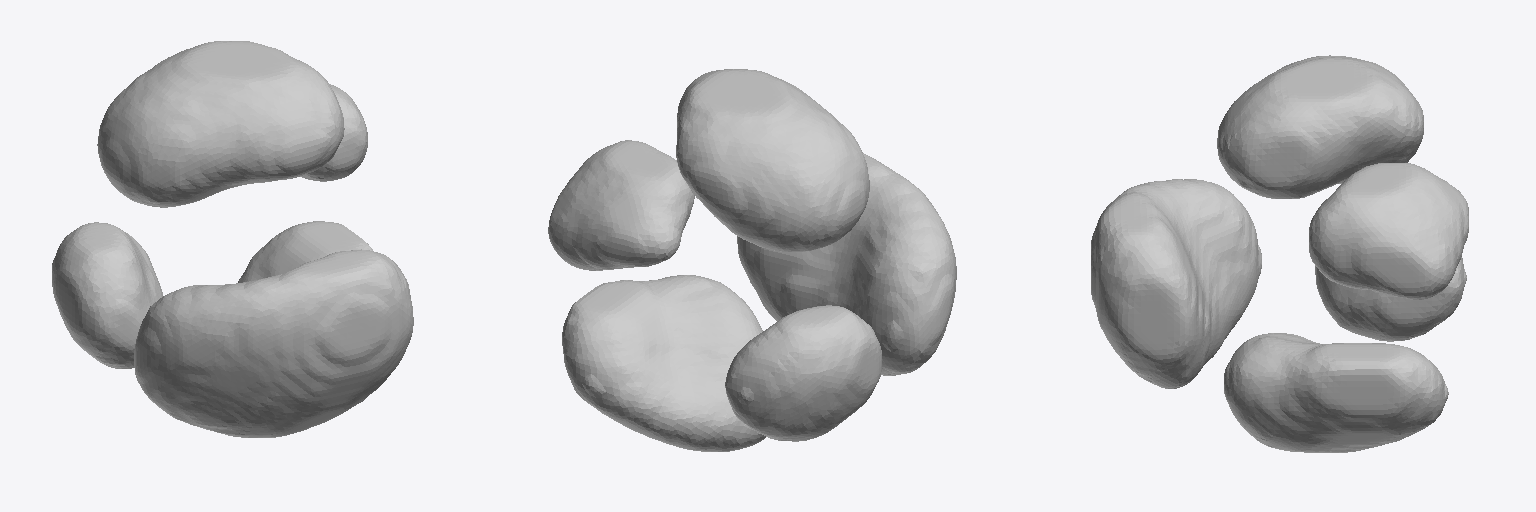
The model's file is iso-crop-mosaic_0.obj.
3 views of the same model, side by side, from view 1: azimuth 30°, elevation 25°; view 2: azimuth 150°, elevation 25°; view 3: azimuth 270°, elevation 25° (orthographic).
Visible parts, largest first — view 1: 1, 3, 4, 5, 2; view 2: 3, 5, 1, 4, 2; view 3: 1, 3, 5, 2, 4.
Boxes of the visible parts, x1=… form: 1: x1=134, y1=249, x2=413, y2=437; 3: x1=97, y1=41, x2=344, y2=207; 4: x1=52, y1=222, x2=162, y2=368; 5: x1=238, y1=221, x2=372, y2=282; 2: x1=300, y1=84, x2=367, y2=181; 3: x1=676, y1=69, x2=869, y2=251; 5: x1=562, y1=275, x2=765, y2=451; 1: x1=737, y1=153, x2=956, y2=375; 4: x1=725, y1=305, x2=881, y2=441; 2: x1=548, y1=140, x2=694, y2=270; 1: x1=1091, y1=179, x2=1261, y2=388; 3: x1=1217, y1=55, x2=1423, y2=198; 5: x1=1224, y1=333, x2=1448, y2=452; 2: x1=1309, y1=163, x2=1468, y2=299; 4: x1=1315, y1=257, x2=1466, y2=341.
Bounding box in the file's own units: 50.64 × 59.3 × 57.09.